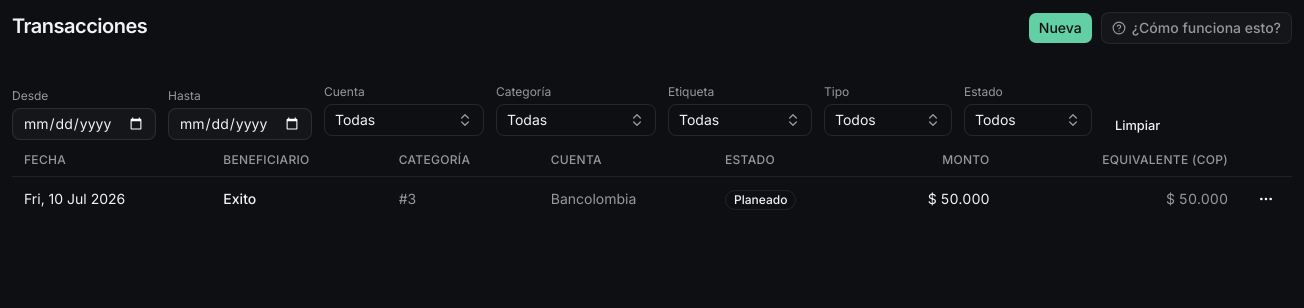
it: TransactionsPage restore action › does not offer Restaurar on a planned row
Click the button named "Acciones" at (1266, 199), box x1=1252 y1=185 x2=1280 y2=213
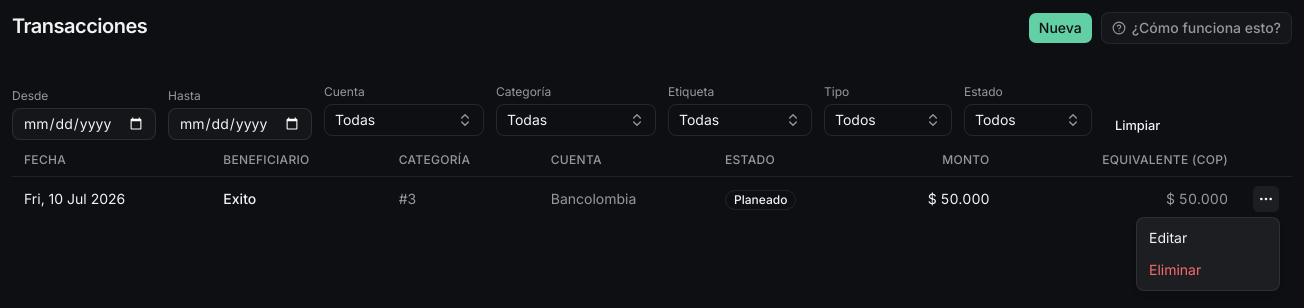
Expected: the menu item "Editar" is shown, x1=1149 y1=229 x2=1187 y2=246
